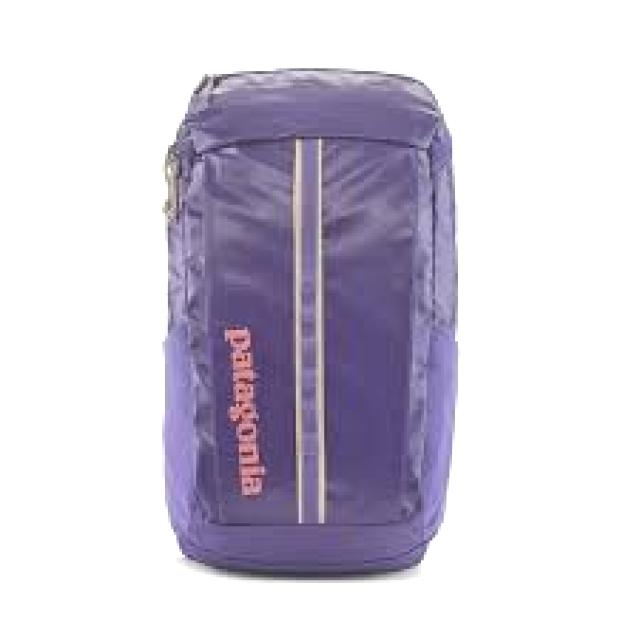backpack: (161, 67, 459, 576)
